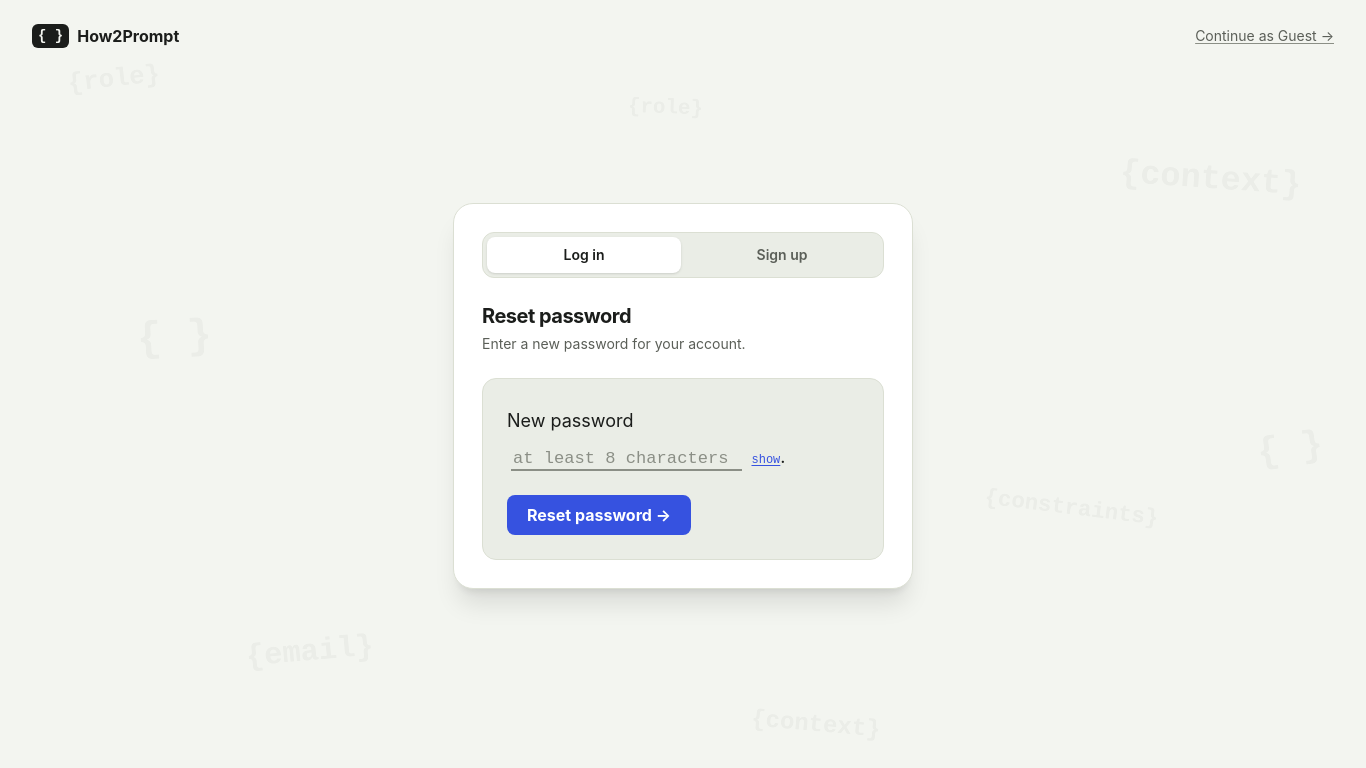
Test: ResetPasswordPage › shows an expired-link message with a link back to /forgot-password for an expired/used token
Type "newpassword123" into the password field with placeholder "at least 8 characters". click: coordinates (627, 460)
box: [511,448,742,471]
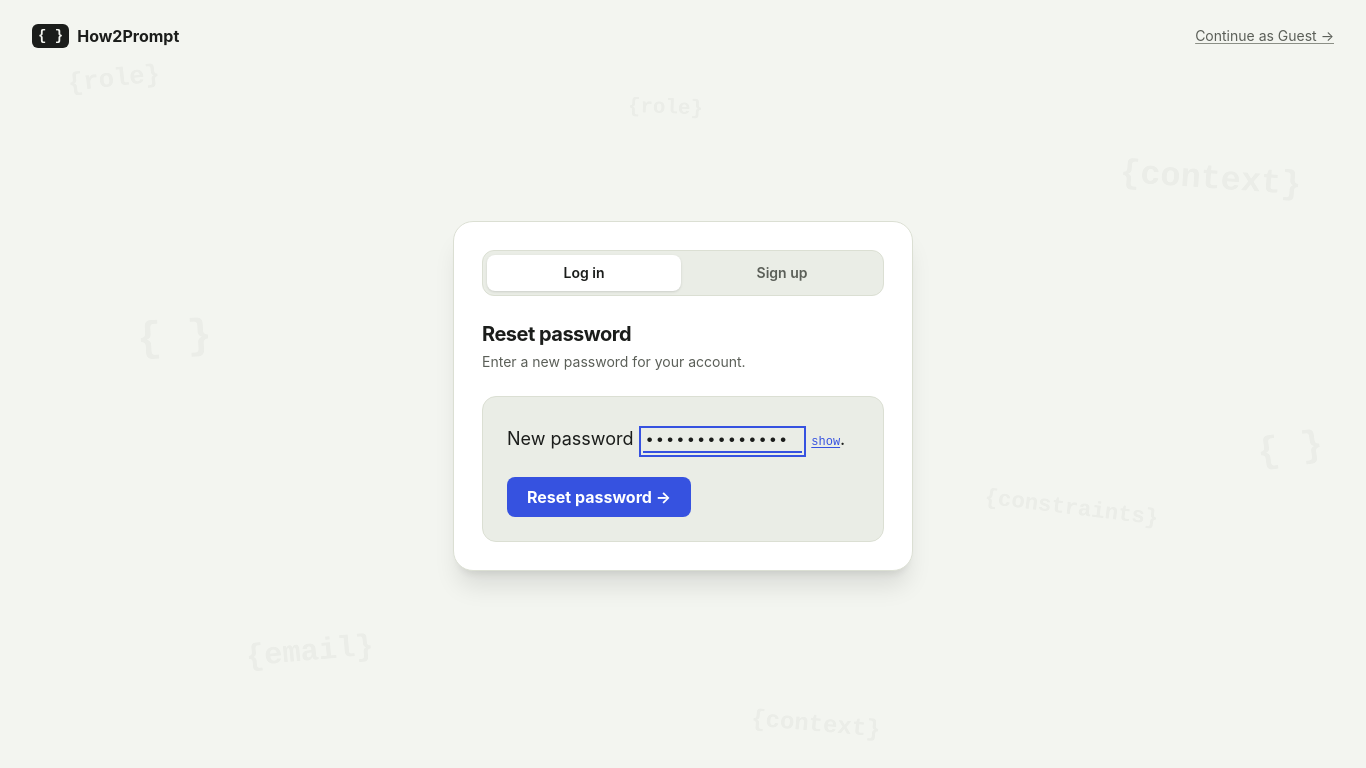
Click the button "Reset password →". click: coordinates (599, 497)
box: [507,477,691,517]
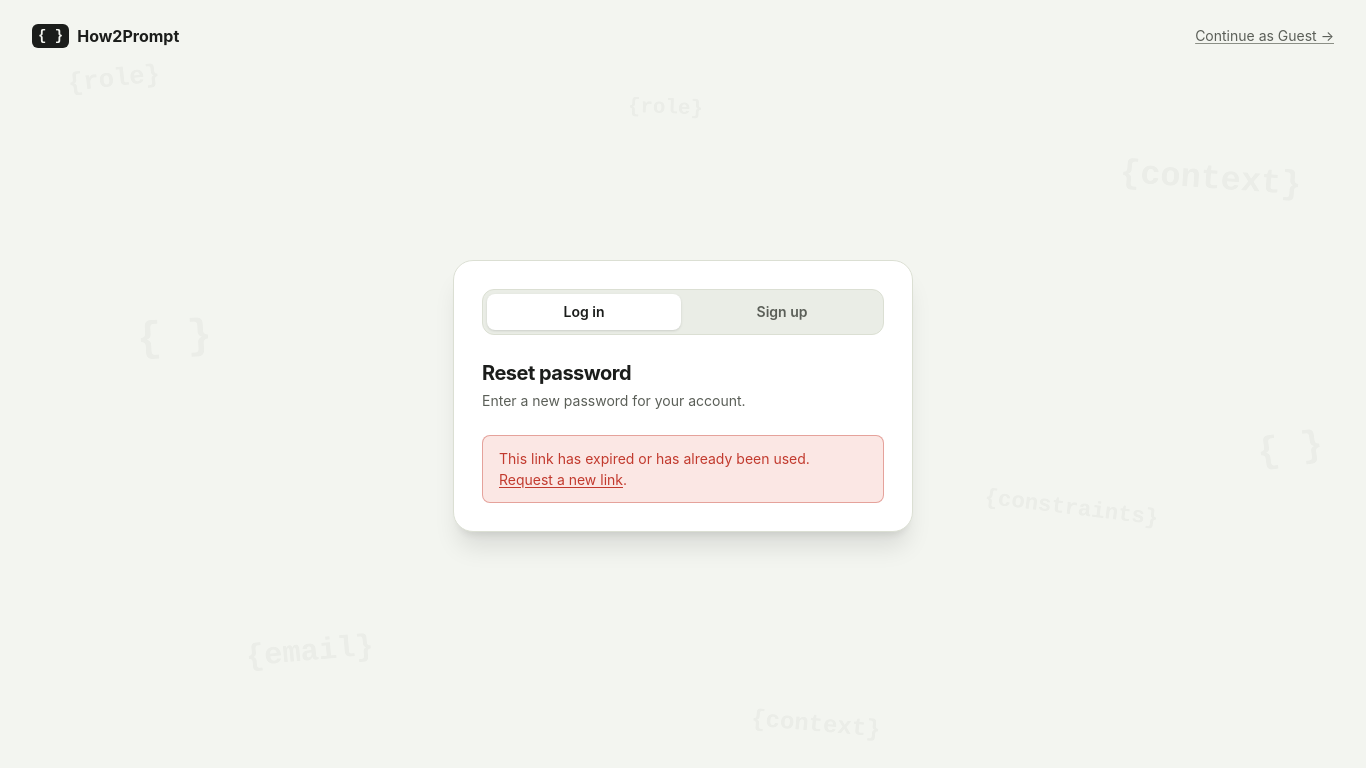
Check: the text "This link has expired or has already been used." is shown, box [499,450,810,467]
Click the link "Request a new link". click: coordinates (561, 480)
box: [499,471,623,488]
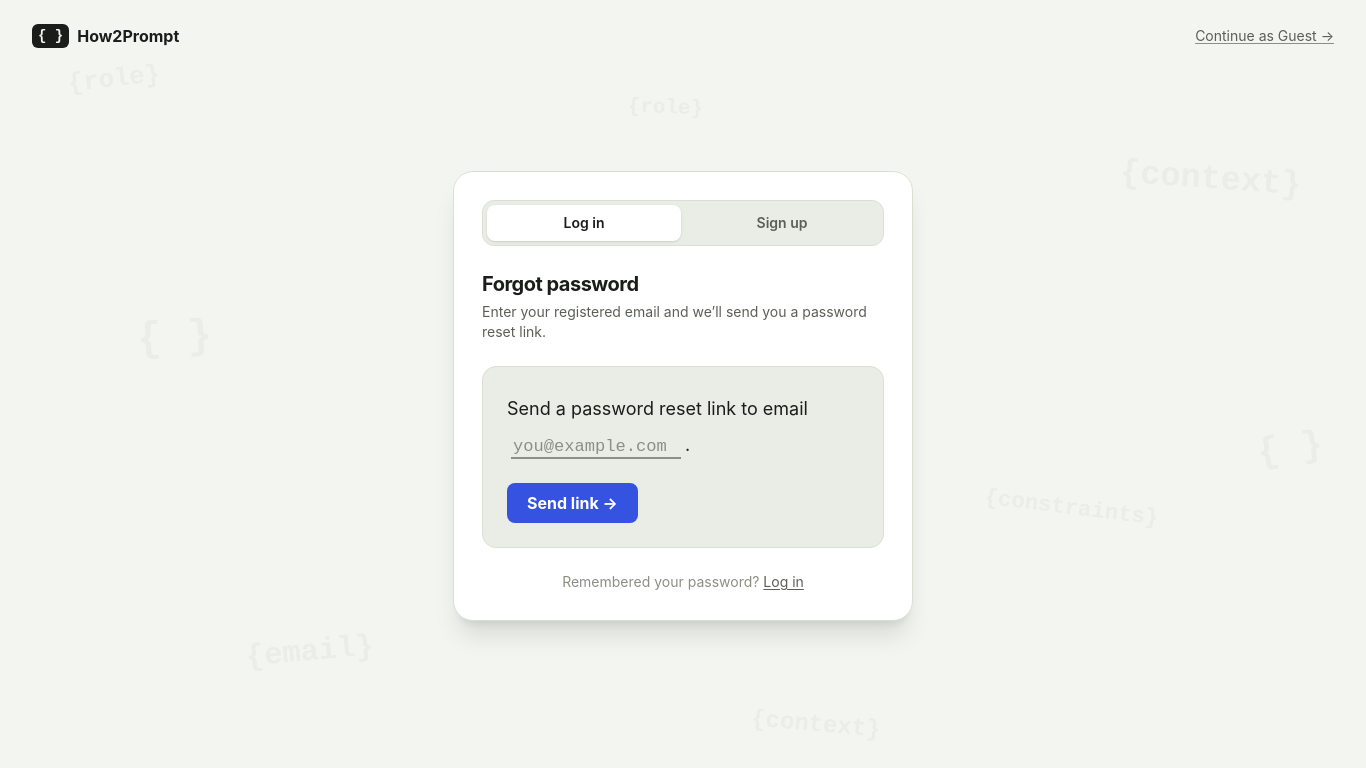
Check: the heading "Forgot password" is shown, box [482,272,639,296]
